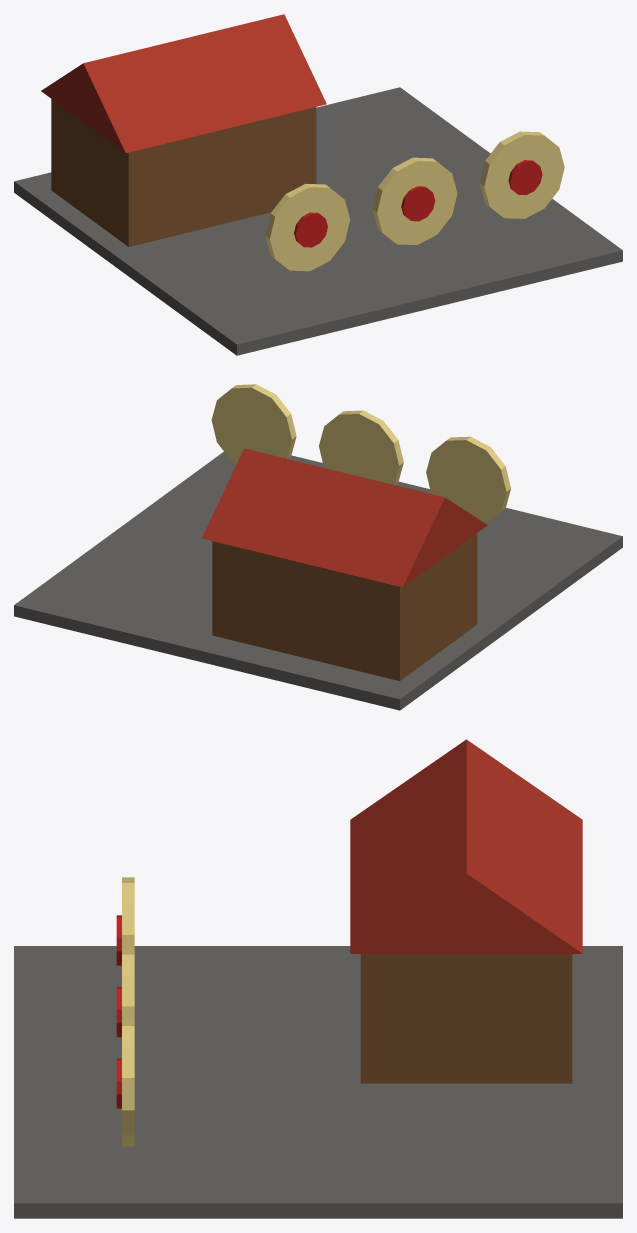
The model's file is archery_range.glb.
3 renders of one model, top to bottom at view 1: azimuth 30°, elevation 25°; view 2: azimuth 150°, elevation 25°; view 3: azimuth 270°, elevation 25°, orthographic. The views are drawn at different scales.
Parts seen in each view (by area): view 1: archery_range; view 2: archery_range; view 3: archery_range.
Boxes of the visible parts, x1,y1,x2,y2 form: archery_range: [14, 14, 622, 355]; archery_range: [14, 384, 622, 710]; archery_range: [14, 739, 622, 1218].
Bounding box in the file's own units: 2.88 × 1.2 × 2.88.
